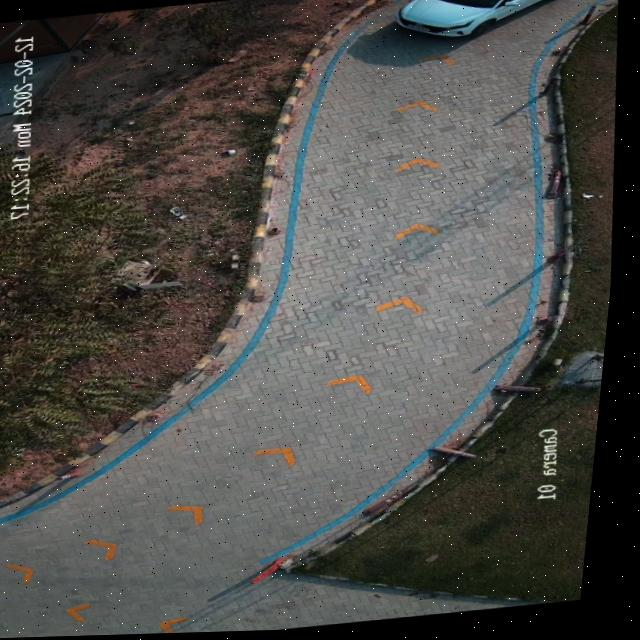car: (395, 0, 550, 39)
